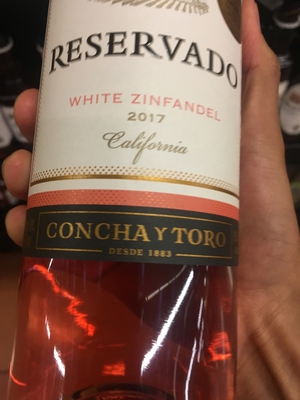reservado white zinfandel: (31, 4, 244, 400)
